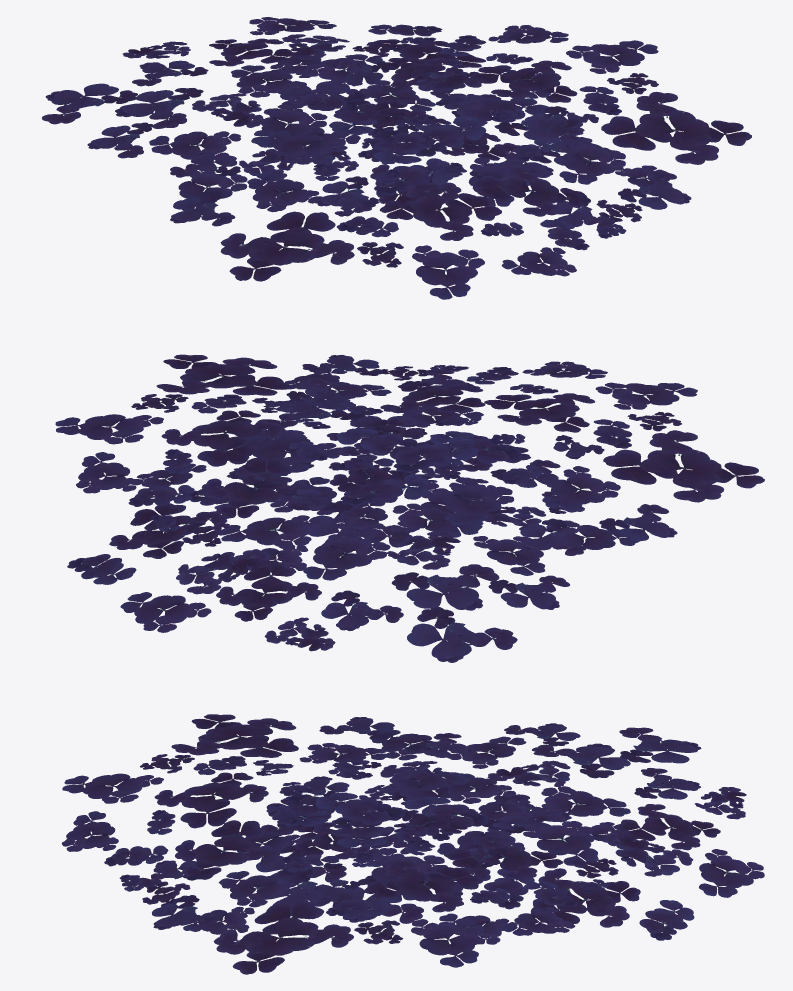
The picture shows the model from 3 angles, top to bottom: view 1: azimuth 30°, elevation 25°; view 2: azimuth 150°, elevation 25°; view 3: azimuth 270°, elevation 25°; orthographic projection. The views are drawn at different scales.
Parts seen in each view (by area): view 1: SM_FH_WoodSorrel_03_LOD0; view 2: SM_FH_WoodSorrel_03_LOD0; view 3: SM_FH_WoodSorrel_03_LOD0.
Boxes of the visible parts, box(x1,y1,x2,y2) form: SM_FH_WoodSorrel_03_LOD0: box(42, 17, 751, 299); SM_FH_WoodSorrel_03_LOD0: box(55, 354, 764, 662); SM_FH_WoodSorrel_03_LOD0: box(61, 714, 764, 974).
Bounding box in the file's own units: 1.2 × 0.1006 × 1.31.
1 material, 1 textured.
